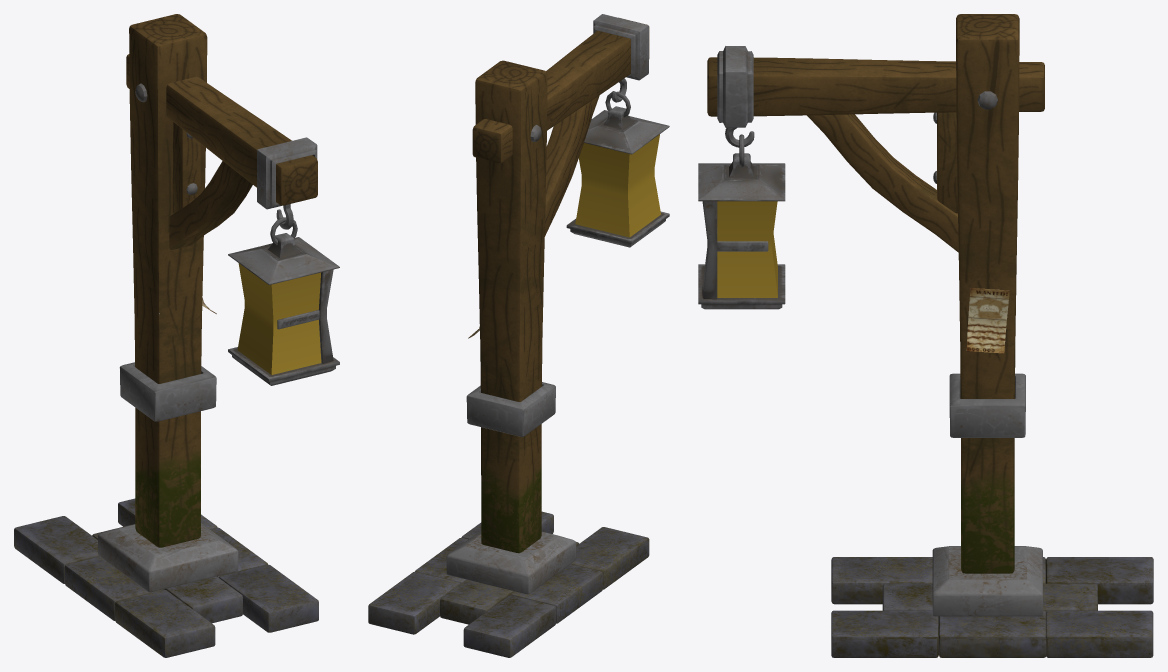
The model's file is poste.obj.
3 views of the same model, side by side, from view 1: azimuth 30°, elevation 25°; view 2: azimuth 150°, elevation 25°; view 3: azimuth 270°, elevation 25° (orthographic). The views are drawn at different scales.
Visible parts, largest first — view 1: Lamp_post_Cube.006; view 2: Lamp_post_Cube.006; view 3: Lamp_post_Cube.006.
Boxes of the visible parts, x1=… form: Lamp_post_Cube.006: x1=14, y1=14, x2=339, y2=657; Lamp_post_Cube.006: x1=368, y1=14, x2=669, y2=657; Lamp_post_Cube.006: x1=698, y1=14, x2=1153, y2=657.
Size of the model in its own units: 0.5824 by 2 by 1.39.
